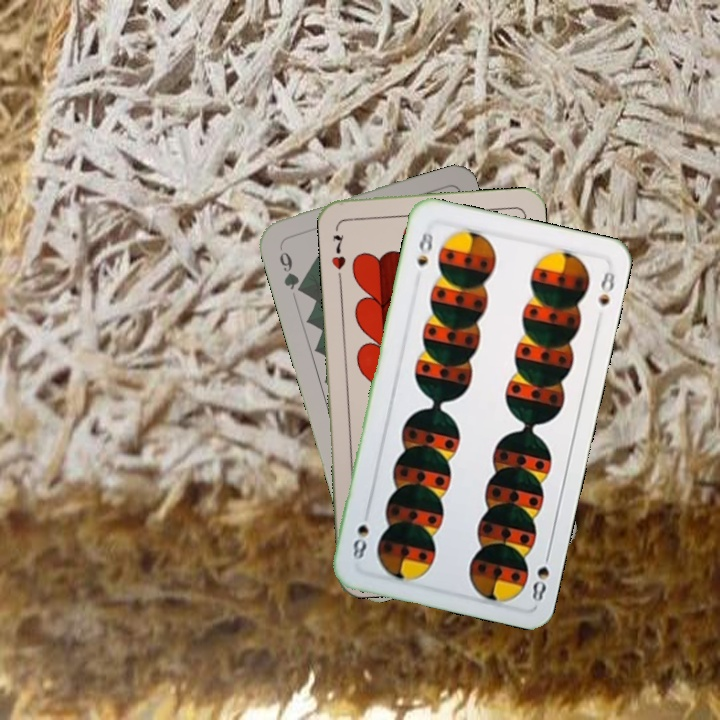G9: (275, 248, 307, 296)
H7: (327, 231, 349, 272)
S8: (528, 546, 555, 606), (412, 227, 436, 269)
